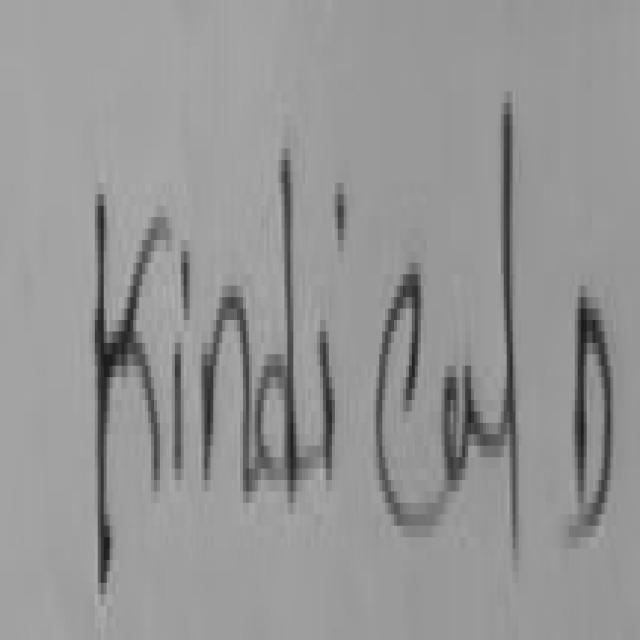D: (560, 190, 636, 606)
K: (70, 125, 162, 603)
a: (440, 288, 493, 528)
c: (361, 229, 439, 566)
d: (253, 82, 304, 514)
i: (316, 154, 354, 516), (163, 216, 198, 514)
l: (488, 53, 526, 573)
n: (196, 272, 262, 549)
